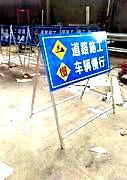sign: (44, 30, 109, 86)
